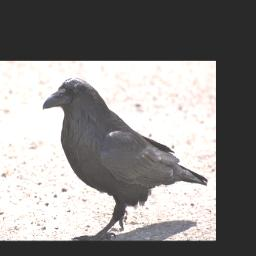Crow: (41, 77, 210, 240)
